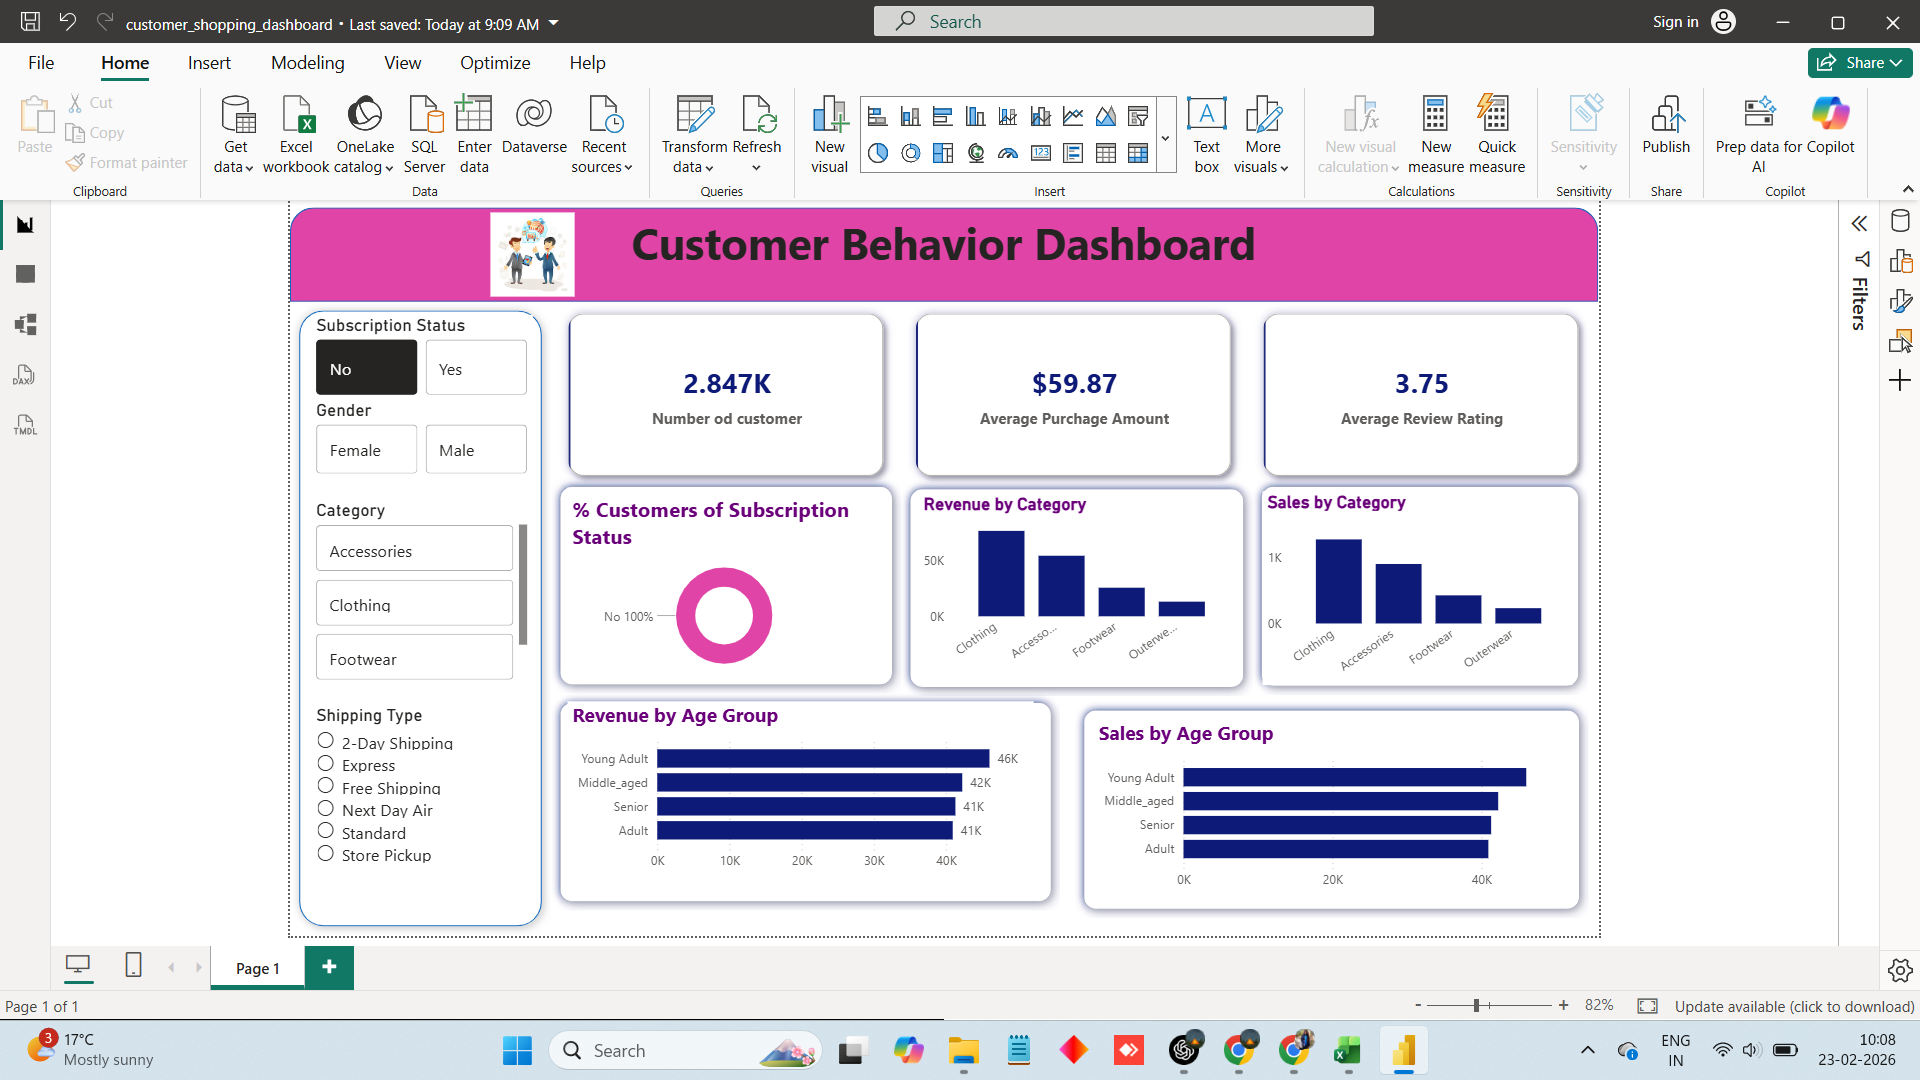

Layout of this report page (visuals, bound fields, positions):
{"tool":"powerbi","page":{"name":"Page 1","canvas":[1280,720],"ordinal":0},"visuals":[{"type":"cardVisual","fields":{"Data":["customer_shopping customer.Number od customer","customer_shopping customer.Average Purchage Amount","customer_shopping customer.Average Review Rating"]},"box":[255.6,94.2,1024.7,193.2],"z":0},{"type":"shape","box":[255.6,271.5,342.4,211.6],"z":1000},{"type":"shape","box":[0,7.2,1279.7,92.3],"z":2000},{"type":"textbox","box":[10.1,7.2,1259.5,69.3],"z":3000},{"type":"donutChart","title":"% Customers of Subscription Status","fields":{"Category":["customer_shopping customer.subscription_status"],"Y":["CountNonNull(customer_shopping customer.customer_id)"]},"box":[271.5,288.6,306.9,183.4],"z":4000},{"type":"shape","box":[598,273.9,343.6,211.6],"z":5000},{"type":"shape","box":[941.6,271.5,327.7,212.8],"z":6000},{"type":"clusteredColumnChart","title":"Revenue by Category","fields":{"Category":["customer_shopping customer.category"],"Y":["Sum(customer_shopping customer.purchase_amount)"]},"box":[615.1,287.4,310.6,176.1],"z":7000},{"type":"clusteredColumnChart","title":"Sales by Category","fields":{"Category":["customer_shopping customer.category"],"Y":["CountNonNull(customer_shopping customer.customer_id)"]},"box":[951.4,284.9,303.3,189.5],"z":8000},{"type":"shape","box":[0,99.6,255.4,620.4],"z":9000},{"type":"advancedSlicerVisual","fields":{"Values":["customer_shopping customer.subscription_status"]},"box":[20.2,112.5,216.4,83.7],"z":10000},{"type":"advancedSlicerVisual","fields":{"Values":["customer_shopping customer.gender"]},"box":[20.2,196.2,216.4,77.9],"z":11000},{"type":"advancedSlicerVisual","fields":{"Values":["customer_shopping customer.category"]},"box":[20.2,292.9,216.4,180.3],"z":12000},{"type":"shape","box":[255.4,483.3,497.8,212.1],"z":12500},{"type":"clusteredBarChart","title":"Revenue by Age Group","fields":{"Category":["customer_shopping customer.age_group"],"Y":["Sum(customer_shopping customer.purchase_amount)"]},"box":[271.2,490.5,455.9,174.6],"z":13000},{"type":"listSlicer","fields":{"Values":["customer_shopping customer.shipping_type"]},"box":[20.2,493.4,216.4,209.2],"z":14000},{"type":"shape","box":[767.5,490.5,502.1,212.1],"z":15001},{"type":"clusteredBarChart","title":"Sales by Age Group","fields":{"Category":["customer_shopping customer.age_group"],"Y":["Sum(customer_shopping customer.purchase_amount)"]},"box":[786.3,509.3,467.5,174.6],"z":15002},{"type":"image","box":[173.1,7.2,127,92.3],"z":15003}]}

Visuals, with their boxes on the page's 1280x720 design canvas (x1, y1, x2, y2). These are canvas units, not pixel positions in the 1920x1080 screenshot, which may show the page scaled, cropped or inside an application window:
cardVisual - customer_shopping customer.Number od customer x customer_shopping customer.Average Purchage Amount: select_region(256, 94, 1280, 287)
shape: select_region(256, 272, 598, 483)
shape: select_region(0, 7, 1280, 100)
textbox: select_region(10, 7, 1270, 76)
"% Customers of Subscription Status" donutChart: select_region(272, 289, 578, 472)
shape: select_region(598, 274, 942, 486)
shape: select_region(942, 272, 1269, 484)
"Revenue by Category" clusteredColumnChart: select_region(615, 287, 926, 464)
"Sales by Category" clusteredColumnChart: select_region(951, 285, 1255, 474)
shape: select_region(0, 100, 255, 720)
advancedSlicerVisual - customer_shopping customer.subscription_status: select_region(20, 112, 237, 196)
advancedSlicerVisual - customer_shopping customer.gender: select_region(20, 196, 237, 274)
advancedSlicerVisual - customer_shopping customer.category: select_region(20, 293, 237, 473)
shape: select_region(255, 483, 753, 695)
"Revenue by Age Group" clusteredBarChart: select_region(271, 490, 727, 665)
listSlicer - customer_shopping customer.shipping_type: select_region(20, 493, 237, 703)
shape: select_region(768, 490, 1270, 703)
"Sales by Age Group" clusteredBarChart: select_region(786, 509, 1254, 684)
image: select_region(173, 7, 300, 100)
